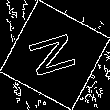N_E: (25, 28, 85, 82)
